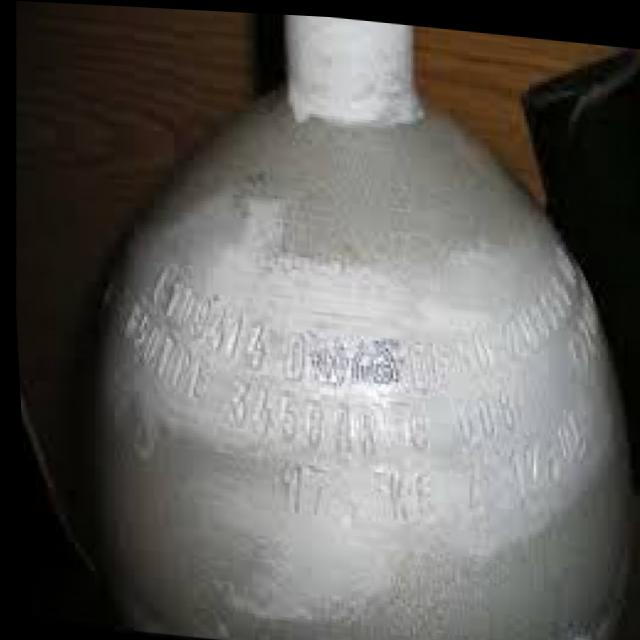ocr: (105, 239, 610, 528)
